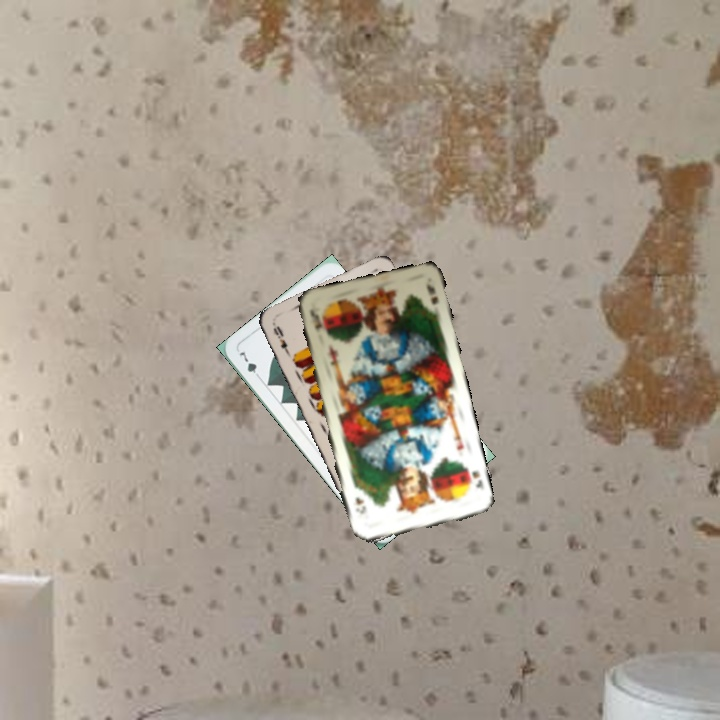E9: (269, 320, 293, 358)
G7: (235, 346, 264, 382)
SK: (462, 464, 486, 492), (306, 306, 325, 335)
